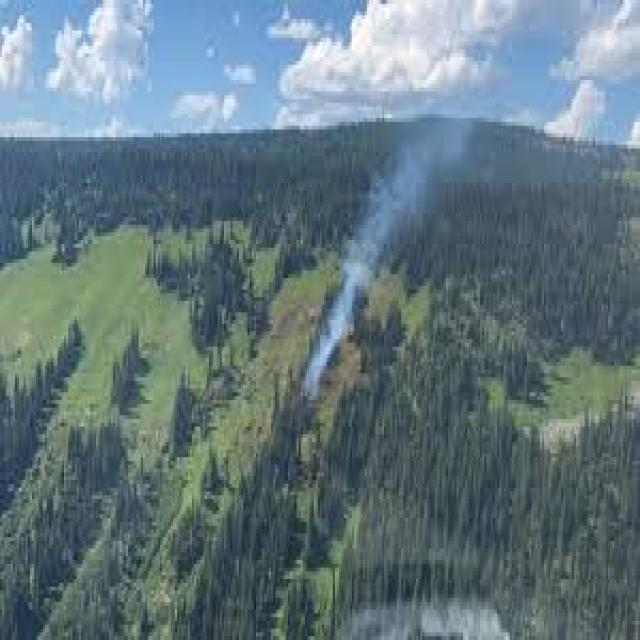Smoke: (294, 203, 394, 410)
